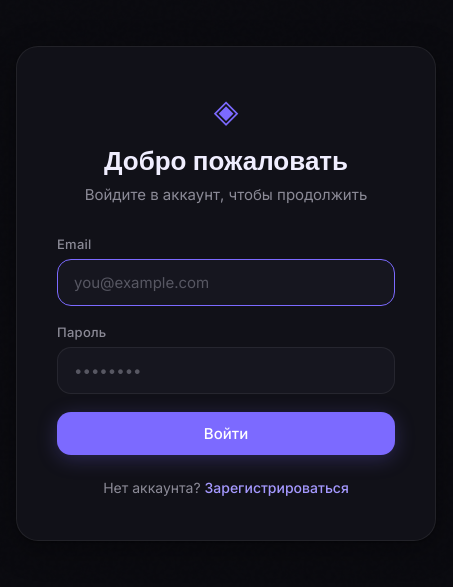
Test case: LoginPage › показывает сообщение об ошибке при неверных данных
The width and height of the screenshot is (453, 587).
Type "bad@example.com" into the field with placeholder "you@example.com" at (226, 282), box [57, 258, 395, 306]
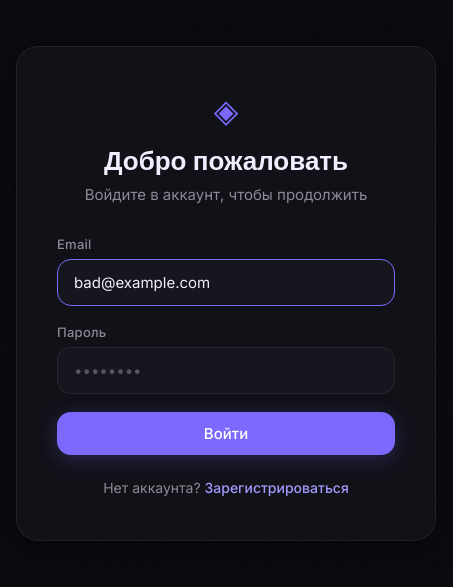
Type "wrongpass" into the password field with placeholder "••••••••" at (226, 370), box [57, 346, 395, 394]
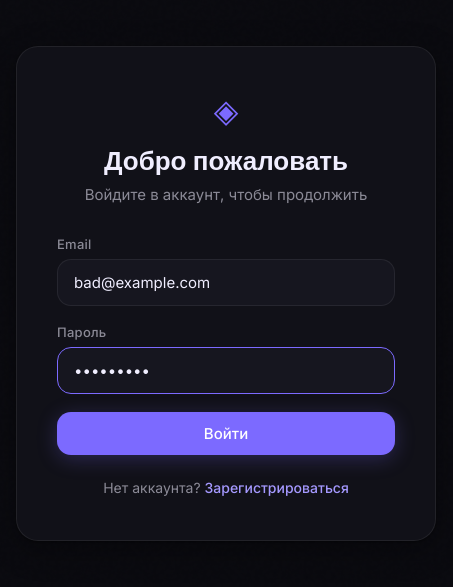
Click the button "Войти" at (226, 433), box [57, 412, 395, 454]
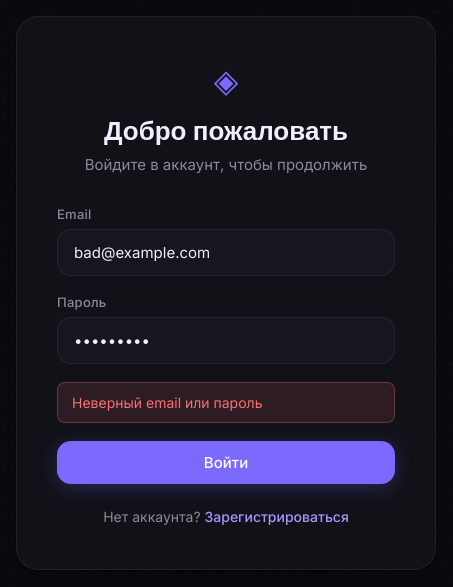
Check: the text "Неверный email или пароль" is shown, box [57, 382, 395, 423]
